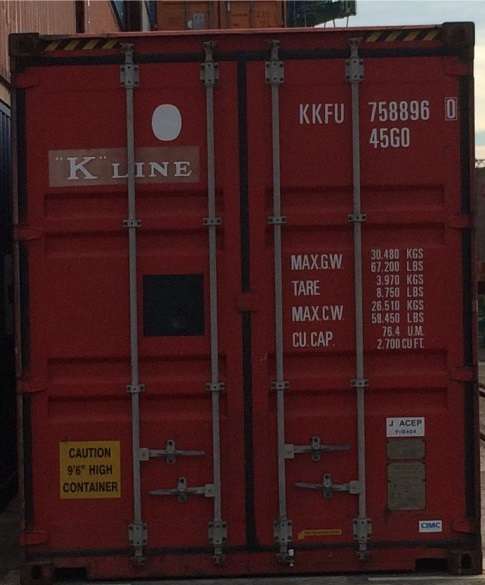container_door: (18, 22, 479, 580)
